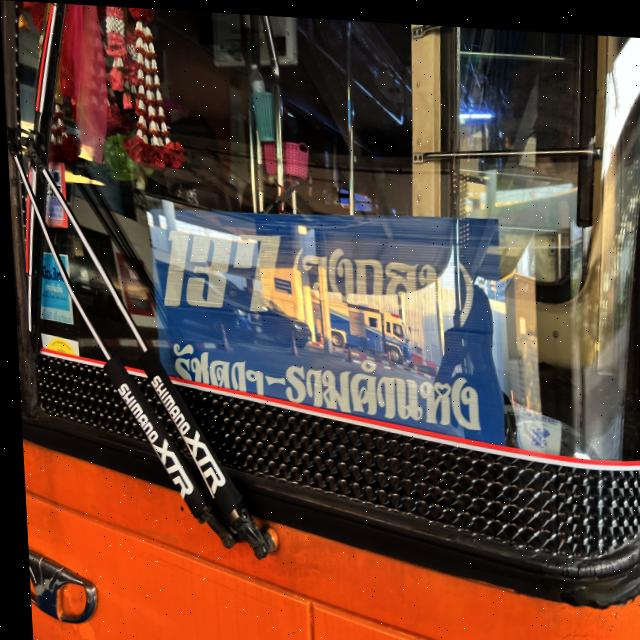BMTA-bus: (0, 0, 640, 640)
Destination-Sign-Normal: (147, 196, 506, 439)
